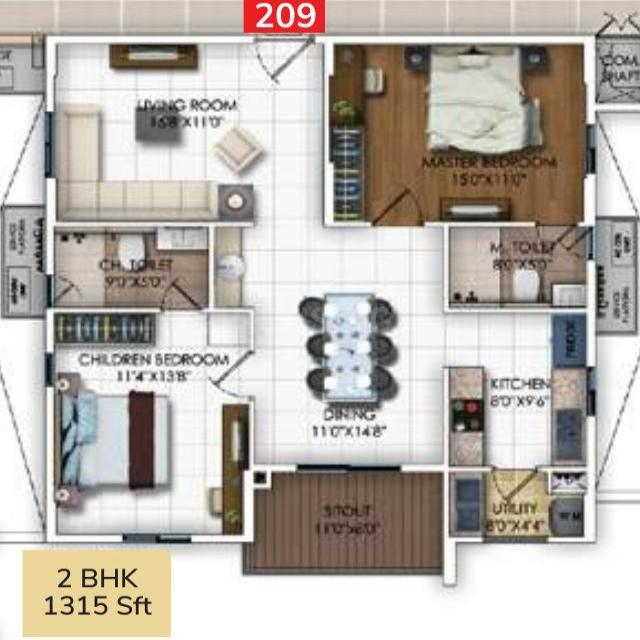Balcony-Sitout: (252, 469, 446, 572)
Bedroom with Toilet: (328, 40, 592, 310), (50, 226, 252, 537)
Dining: (298, 287, 398, 422)
Enterance-Foyer: (249, 35, 317, 84)
Kitchen: (445, 309, 590, 467)
Living: (51, 40, 327, 224)
Toilet: (52, 231, 207, 308), (449, 228, 587, 307)
Utility: (447, 469, 589, 539)
